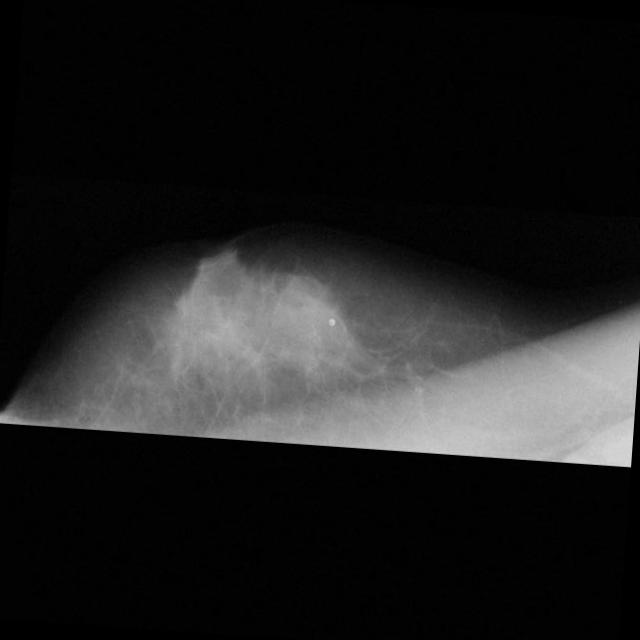CALC: (568, 286, 582, 301)
